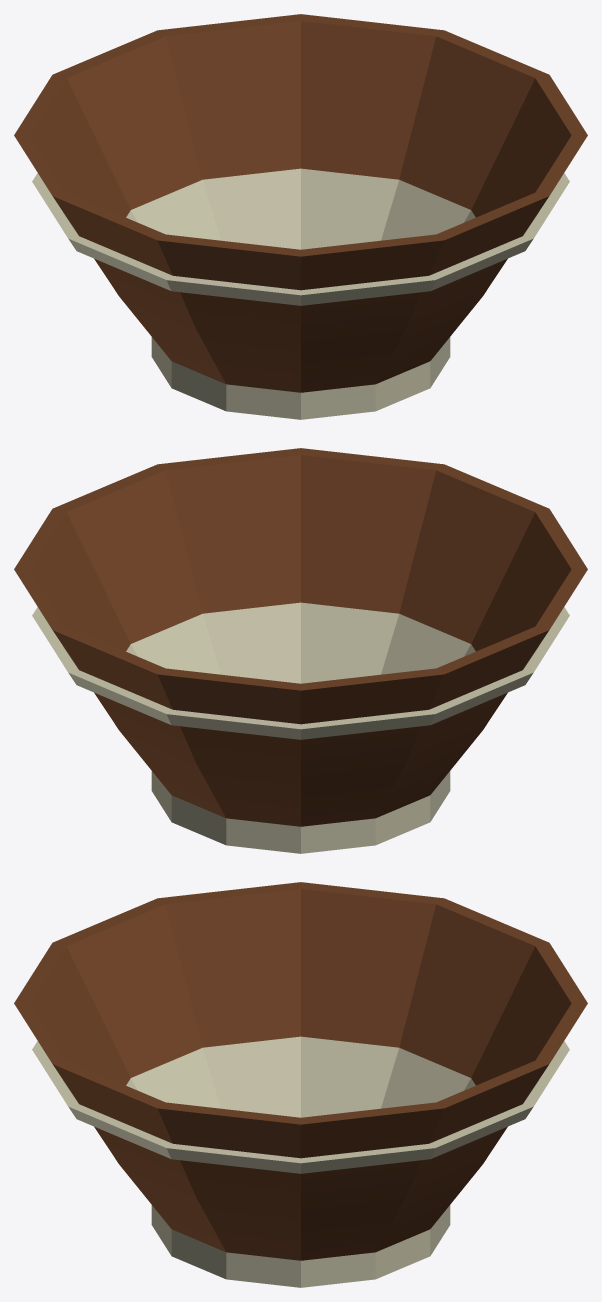
File: TT_Japanese_mixing_Bowl.fbx
3 views of the same model, one above another, from view 1: azimuth 30°, elevation 25°; view 2: azimuth 150°, elevation 25°; view 3: azimuth 270°, elevation 25° (orthographic).
Visible parts, largest first — view 1: Japanese_Mixing_bowl; view 2: Japanese_Mixing_bowl; view 3: Japanese_Mixing_bowl.
Boxes of the visible parts, left/top/right/bottom form: Japanese_Mixing_bowl: left=14, top=14, right=587, bottom=419; Japanese_Mixing_bowl: left=14, top=448, right=587, bottom=853; Japanese_Mixing_bowl: left=14, top=882, right=587, bottom=1287.
Size of the model in its own units: 15.33 by 6.52 by 15.33.
